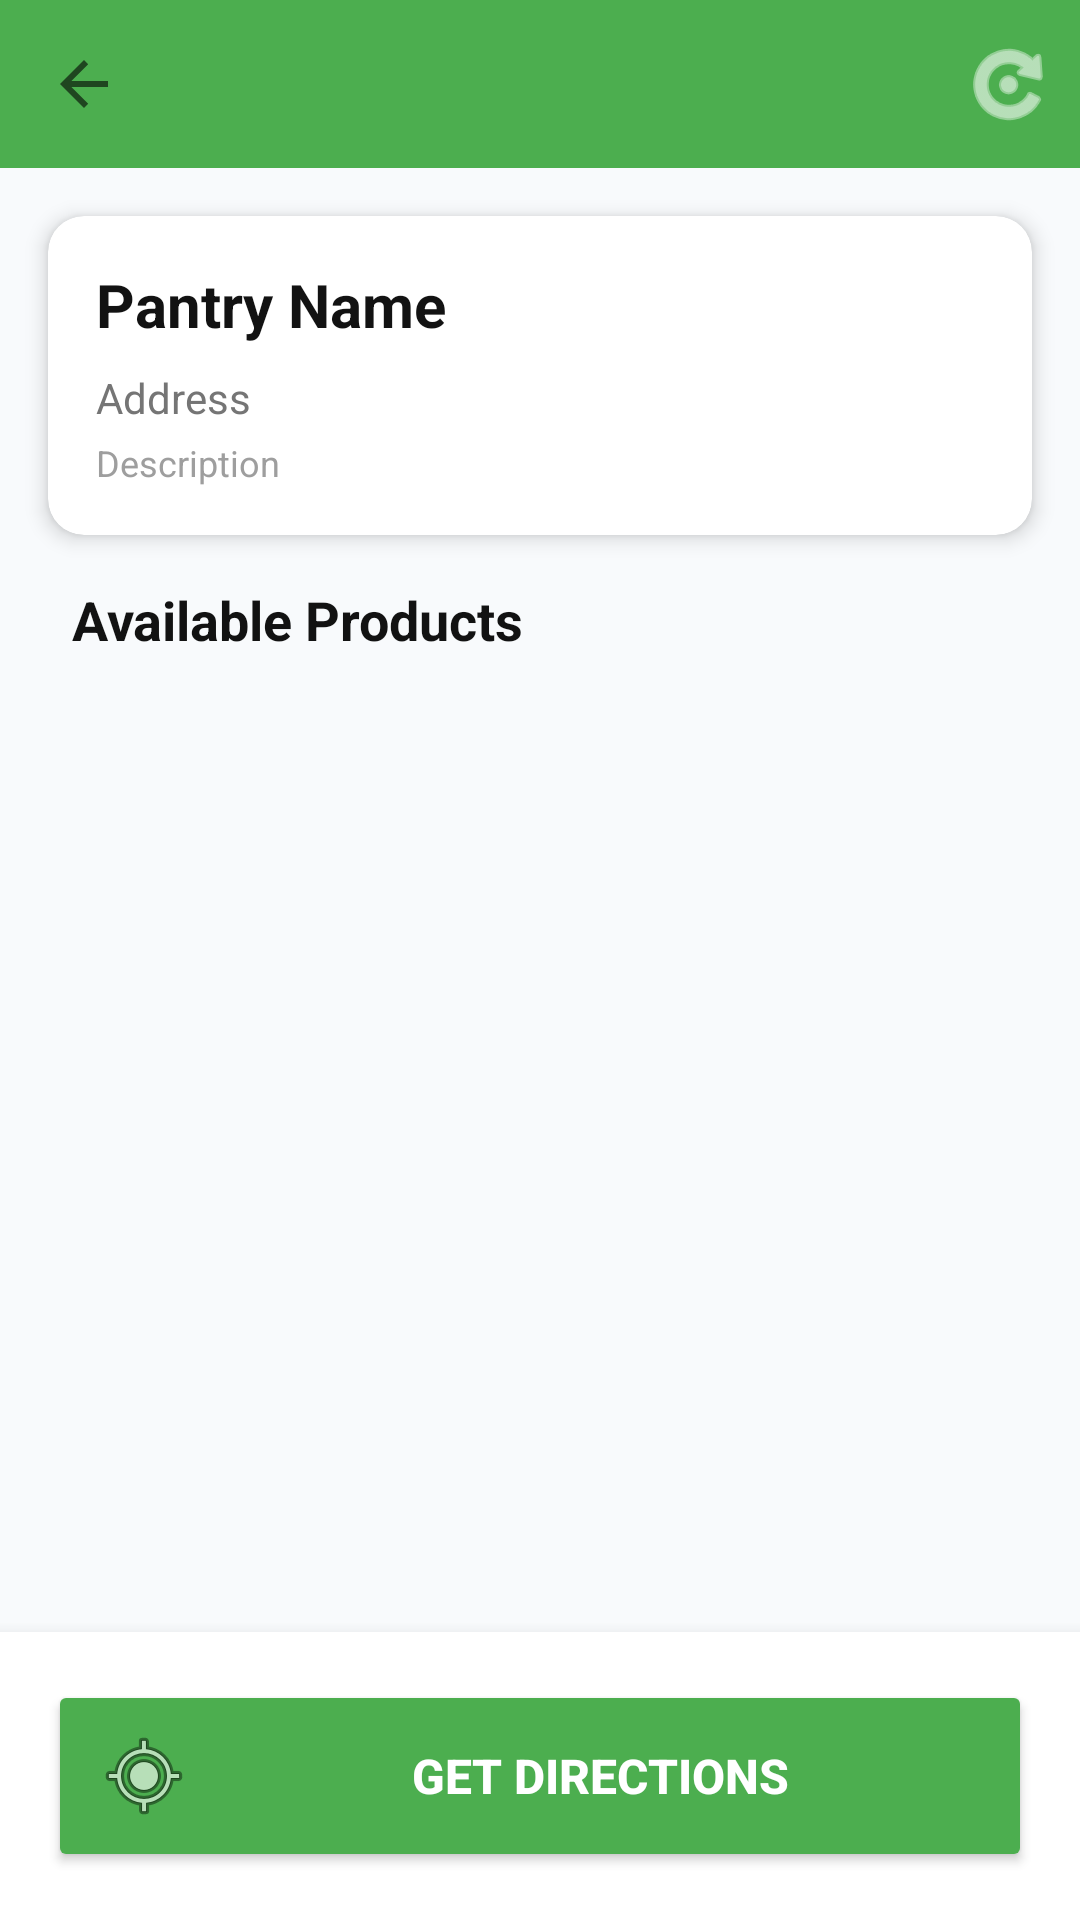

Icons on this 1080px x 1920px Android screen, each with its box as (x1, y1, x2, y2):
Refresh products: (973, 49, 1043, 120)
